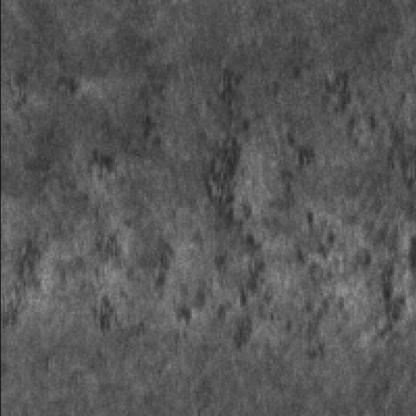rolled-in_scale: (21, 81, 291, 327), (297, 70, 416, 353)
